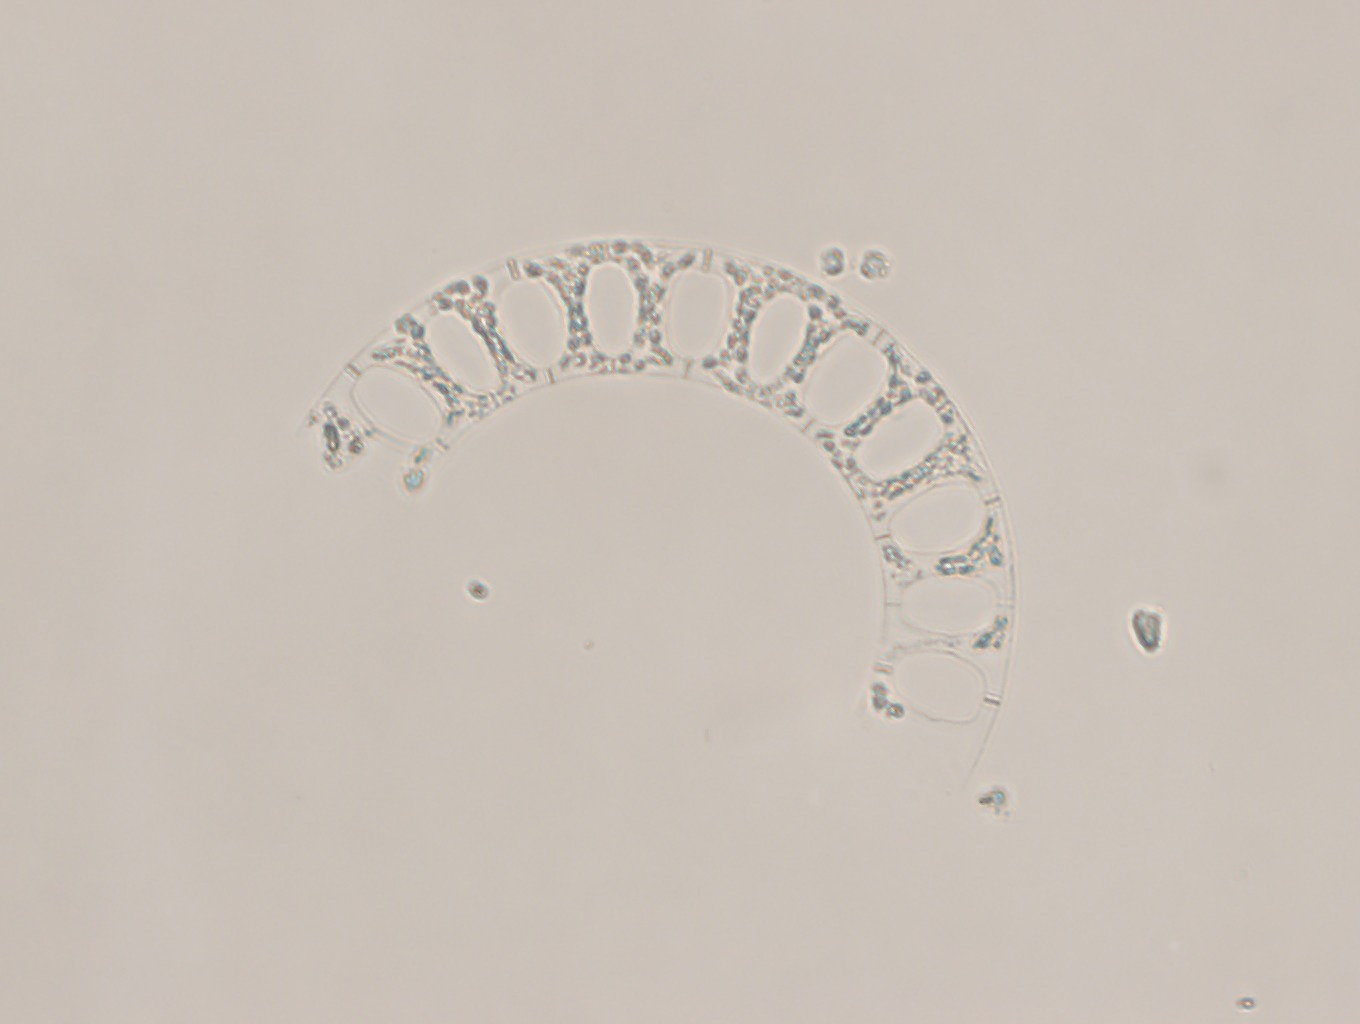eucampia: (302, 234, 1016, 808)
